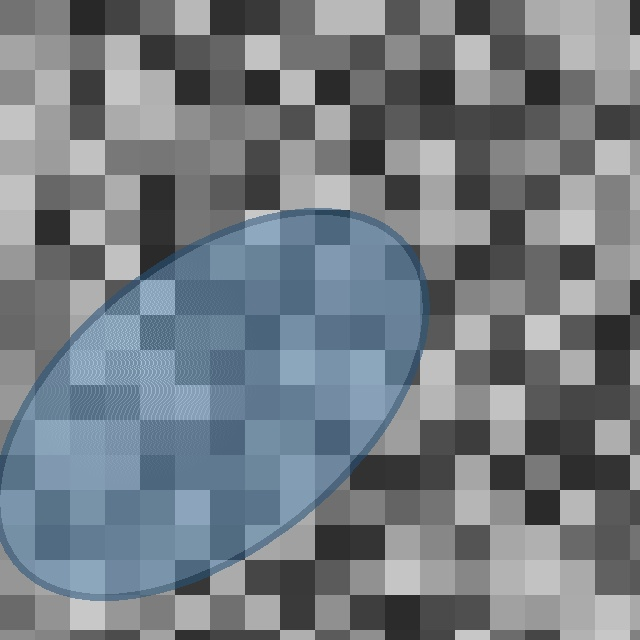lens: (0, 212, 425, 596)
